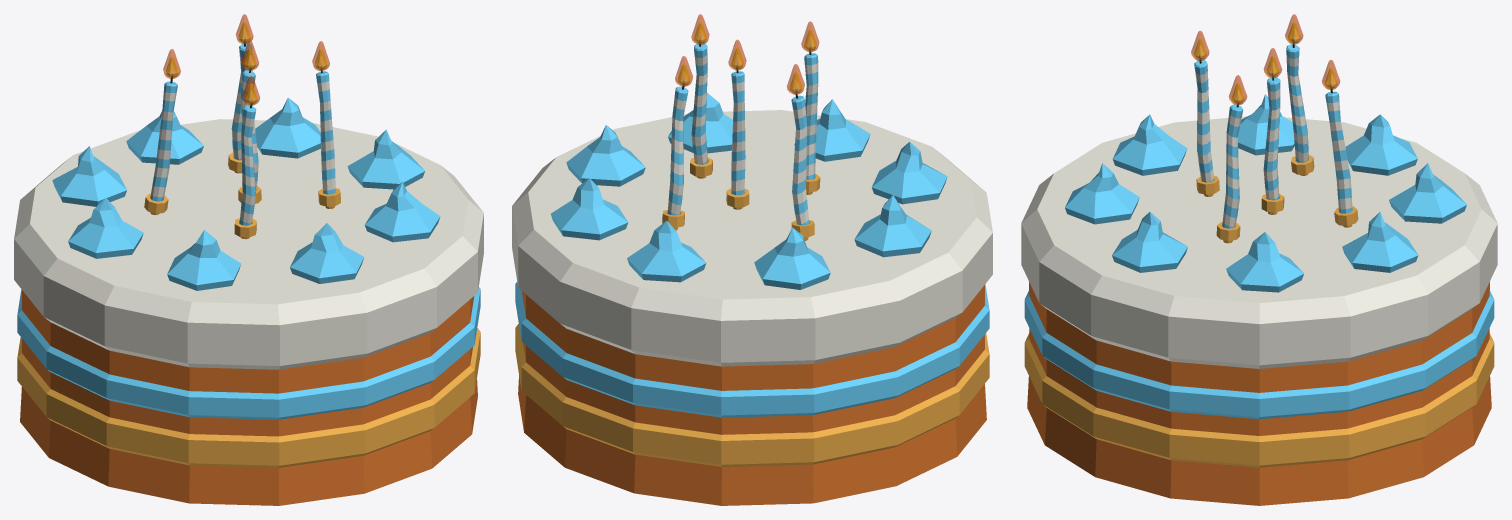
File: cake1.fbx
3 renders of one model, left to right at view 1: azimuth 30°, elevation 25°; view 2: azimuth 150°, elevation 25°; view 3: azimuth 270°, elevation 25°, orthographic. The views are drawn at different scales.
Visible parts, largest first — view 1: Cake1; view 2: Cake1; view 3: Cake1.
Boxes of the visible parts, <box> form: Cake1: <box>14,14,483,505</box>; Cake1: <box>512,14,992,505</box>; Cake1: <box>1021,14,1497,505</box>.
Bounding box in the file's own units: 48.77 × 41.15 × 48.77.
